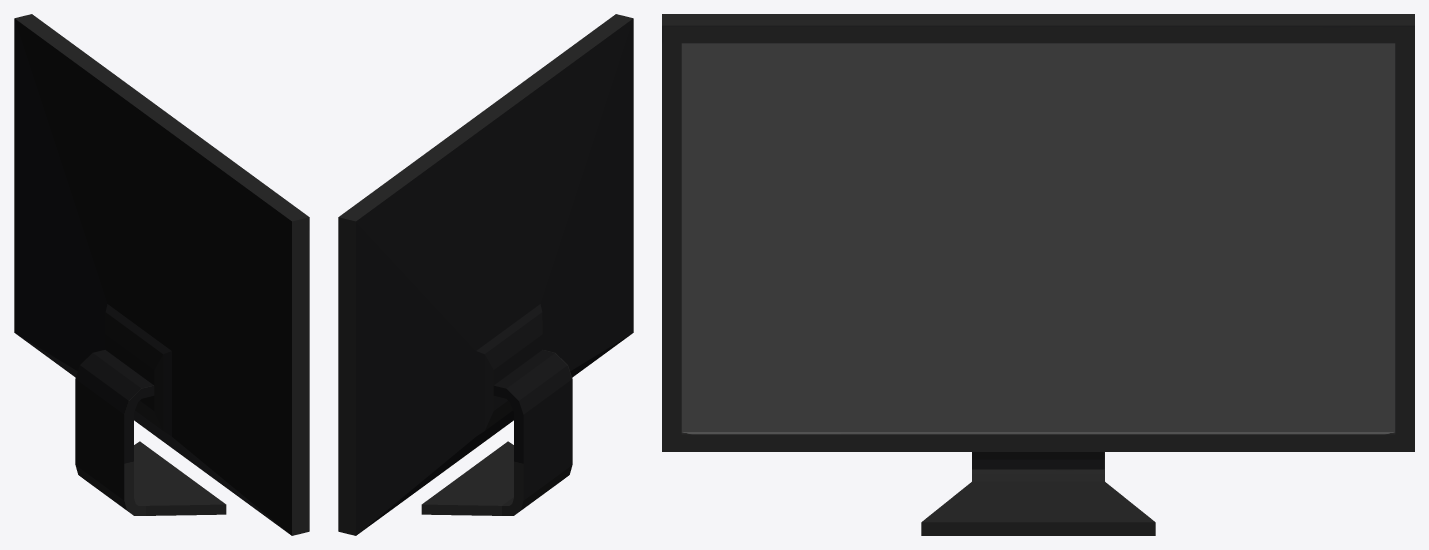
Rendered from monitor.FBX.
3 views of the same model, side by side, from view 1: azimuth 30°, elevation 25°; view 2: azimuth 150°, elevation 25°; view 3: azimuth 270°, elevation 25° (orthographic). The views are drawn at different scales.
Visible parts, largest first — view 1: PC_Monitor_PC_Monitor_auv; view 2: PC_Monitor_PC_Monitor_auv; view 3: PC_Monitor_PC_Monitor_auv.
Part boxes in pixels (x1,y1,x2,y2): PC_Monitor_PC_Monitor_auv: (14,14,309,535); PC_Monitor_PC_Monitor_auv: (338,14,633,535); PC_Monitor_PC_Monitor_auv: (662,14,1414,535).
Size of the model in its own units: 24.41 by 104 by 141.
Materials: 1 (1 with a texture image).
